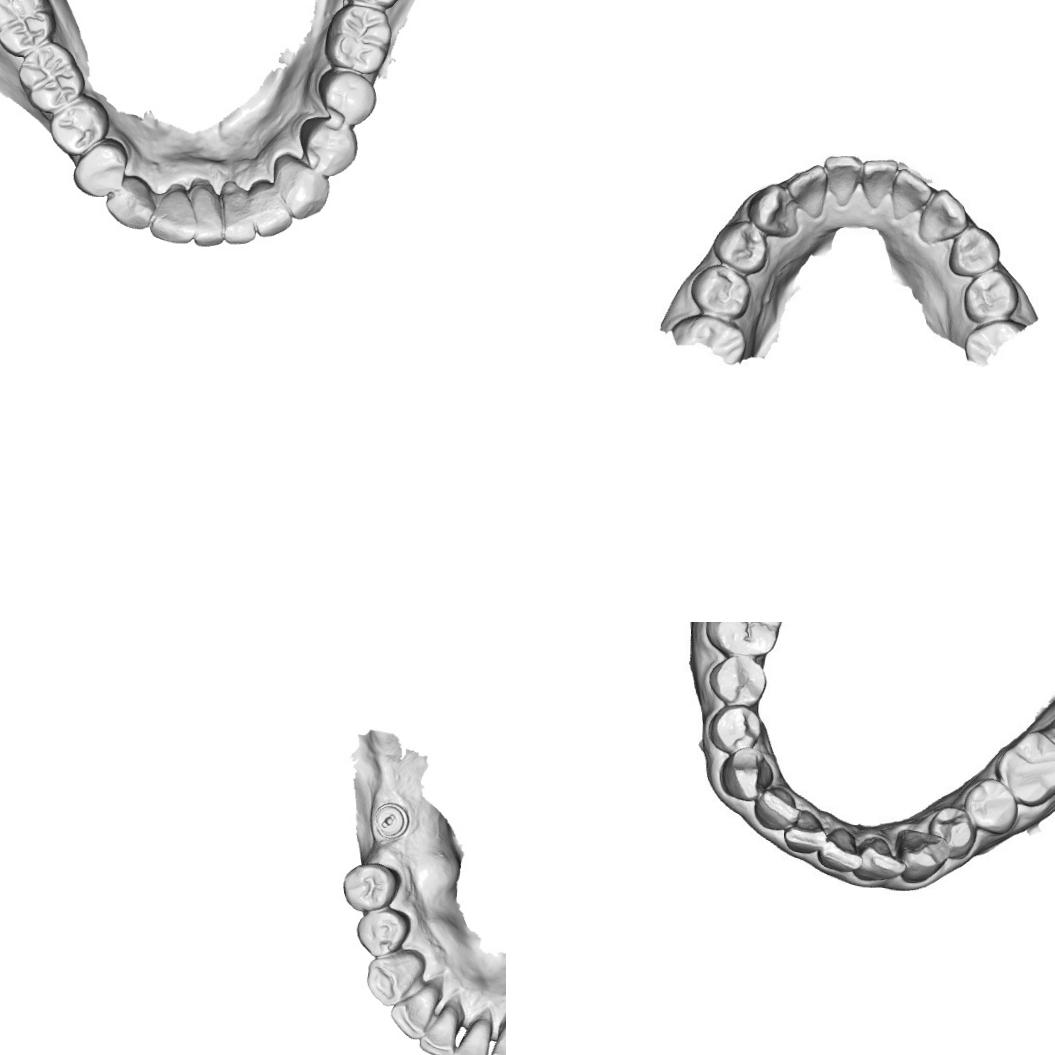canine: (362, 946, 427, 1009), (271, 156, 332, 221), (718, 747, 773, 802), (104, 173, 156, 231), (746, 183, 798, 241), (899, 828, 950, 882), (918, 191, 968, 244)
implant_minus: (370, 798, 412, 842)
incisor: (388, 982, 444, 1043), (149, 183, 200, 249), (246, 178, 294, 238), (219, 179, 258, 246), (187, 184, 227, 248), (414, 1000, 460, 1055), (815, 827, 864, 878), (752, 786, 802, 833), (822, 155, 868, 206), (860, 835, 904, 886), (887, 168, 930, 218), (789, 167, 833, 215), (447, 1014, 496, 1055), (785, 805, 822, 856), (862, 156, 894, 208), (485, 1012, 506, 1055)
molar: (15, 38, 88, 116), (322, 3, 395, 76), (999, 732, 1055, 804), (0, 0, 59, 59), (711, 622, 784, 657)
premolar: (297, 115, 360, 178), (48, 94, 111, 156), (316, 68, 380, 128), (71, 138, 127, 200), (340, 860, 402, 915), (354, 904, 414, 960), (711, 654, 765, 706), (964, 778, 1018, 830), (694, 266, 750, 314), (949, 225, 1000, 275), (708, 706, 762, 752), (932, 808, 980, 859), (715, 223, 764, 269), (965, 272, 1014, 318)
